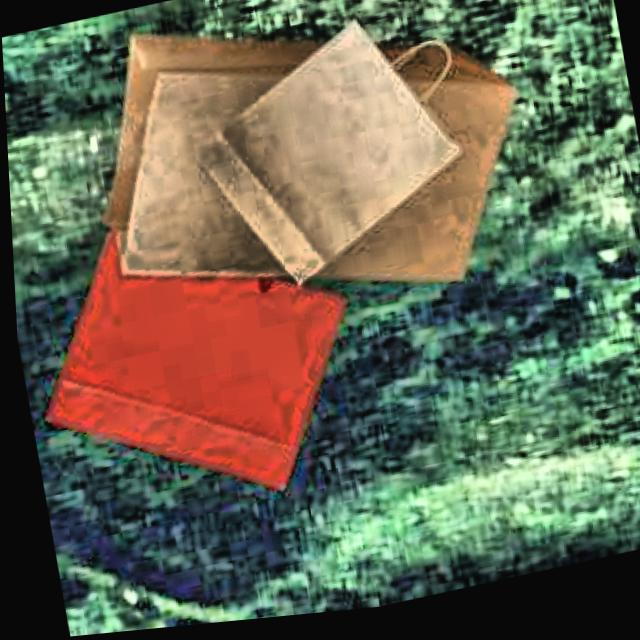Paper-bag: (56, 0, 556, 375), (8, 162, 371, 546), (176, 0, 512, 317)
